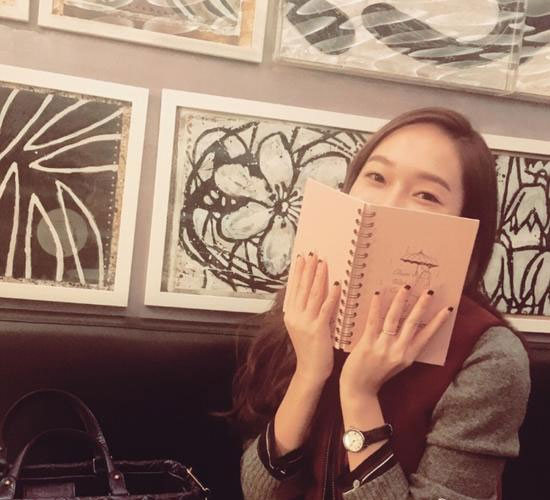face: (344, 126, 462, 276)
